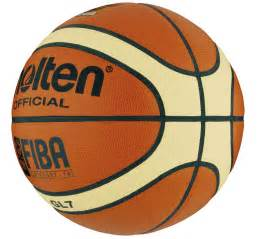basketball: (10, 1, 246, 237)
